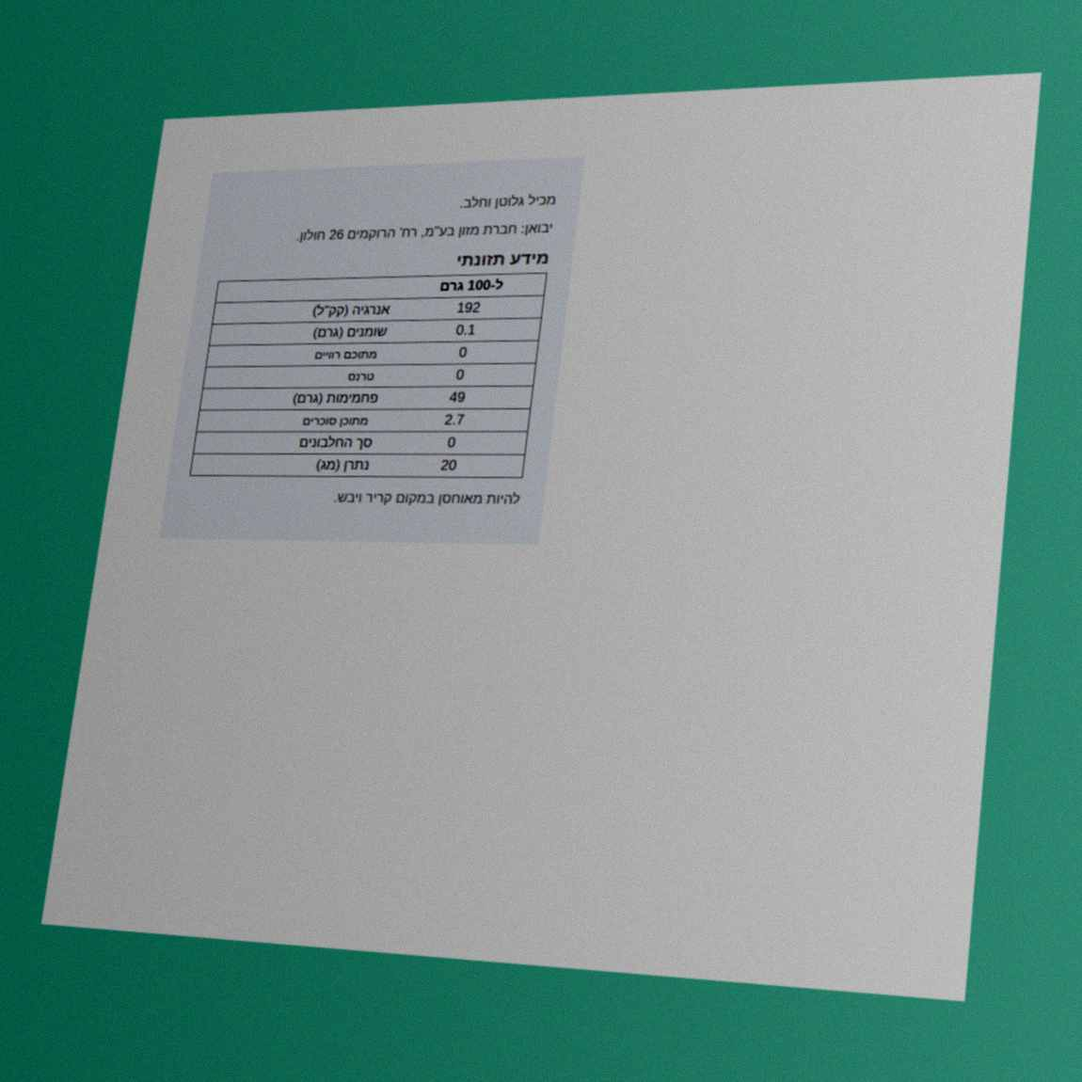carbs: (447, 388, 468, 406)
energy: (454, 299, 483, 317)
fat: (453, 321, 478, 339)
protein: (445, 434, 458, 451)
